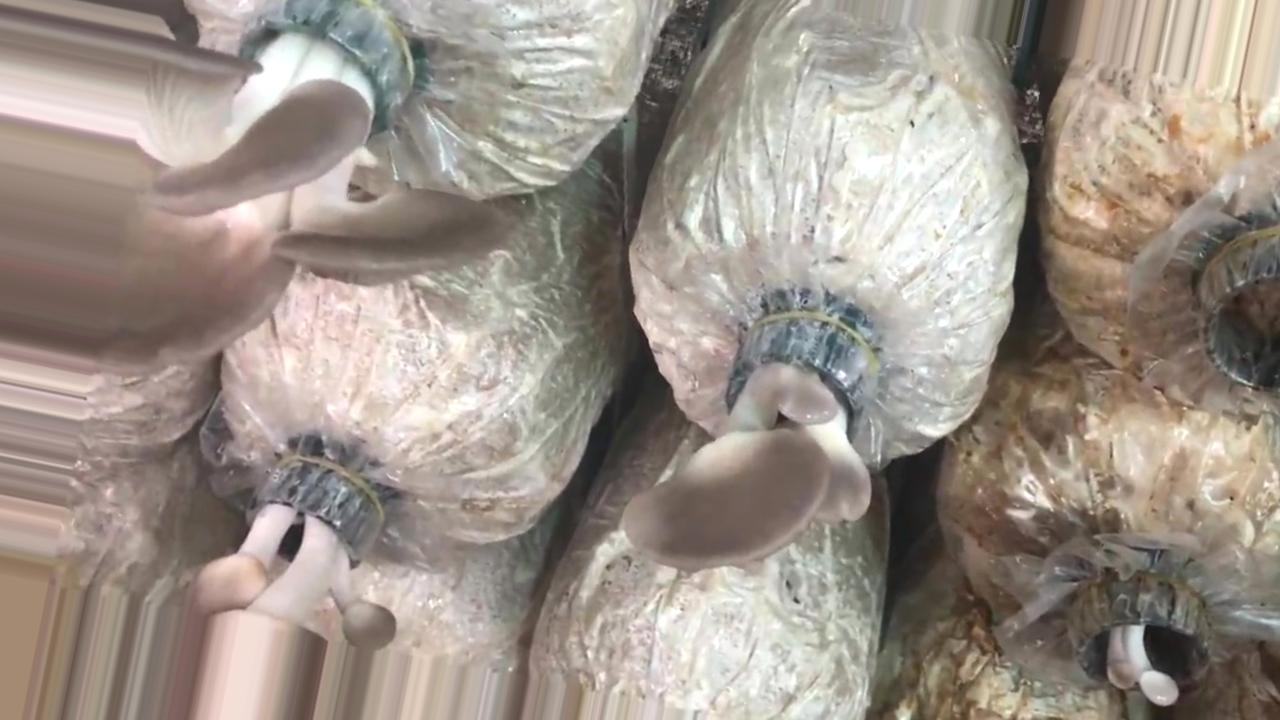nam: (3, 1, 505, 375), (624, 312, 888, 571), (188, 448, 398, 720), (1078, 580, 1203, 706)
